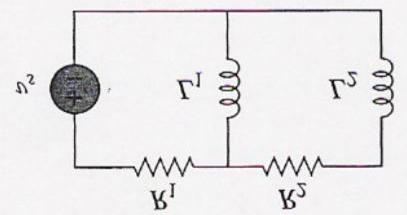inductor: (359, 43, 397, 124), (212, 50, 246, 123)
